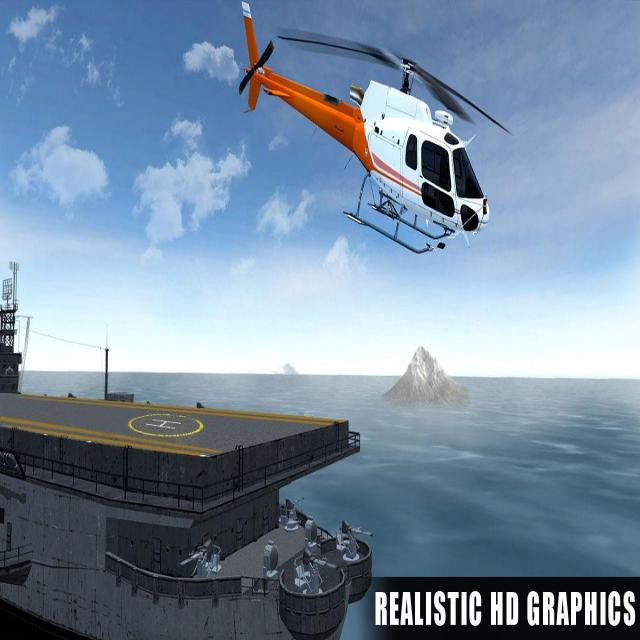helicopter: (243, 4, 493, 258)
